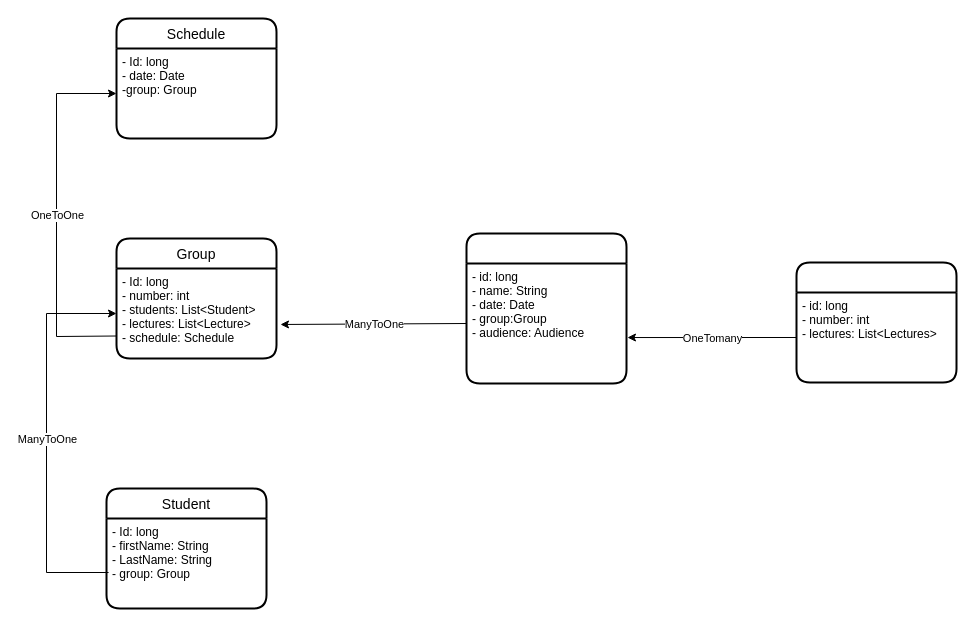
The diagram is 974 pixels wide and 626 high, and some of its shapes have lost their labels. The shapes that lost their labels are listed below. From the top down, each one's box as (x1, y1, x2, y2) in pixels, then its label:
(465, 232, 627, 384): Lecture
(795, 261, 957, 383): Audience
